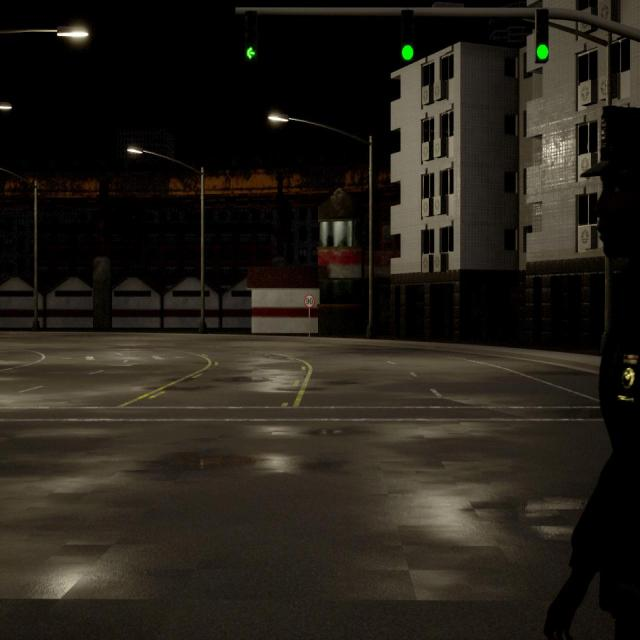Pedestrian: (549, 106, 639, 638)
Traffic_Signs: (305, 294, 314, 308)
traffic_light: (535, 8, 549, 62), (402, 8, 414, 61), (244, 10, 256, 60)
